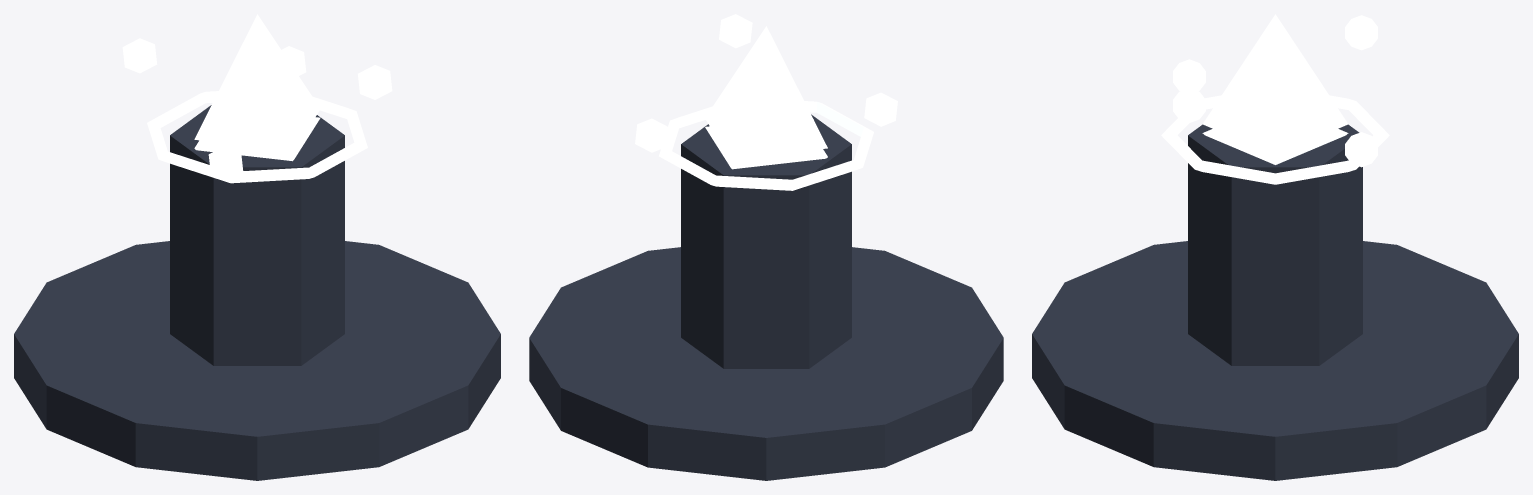
The model's file is tower_slow.glb.
The picture shows the model from 3 angles, left to right: view 1: azimuth 30°, elevation 25°; view 2: azimuth 150°, elevation 25°; view 3: azimuth 270°, elevation 25°; orthographic projection. The views are drawn at different scales.
Parts seen in each view (by area): view 1: tower_slow; view 2: tower_slow; view 3: tower_slow.
Part boxes in pixels (left/top/right/bottom): tower_slow: left=14, top=14, right=500, bottom=480; tower_slow: left=529, top=14, right=1003, bottom=480; tower_slow: left=1032, top=14, right=1518, bottom=480.
Bounding box in the file's own units: 1 × 0.825 × 1.
